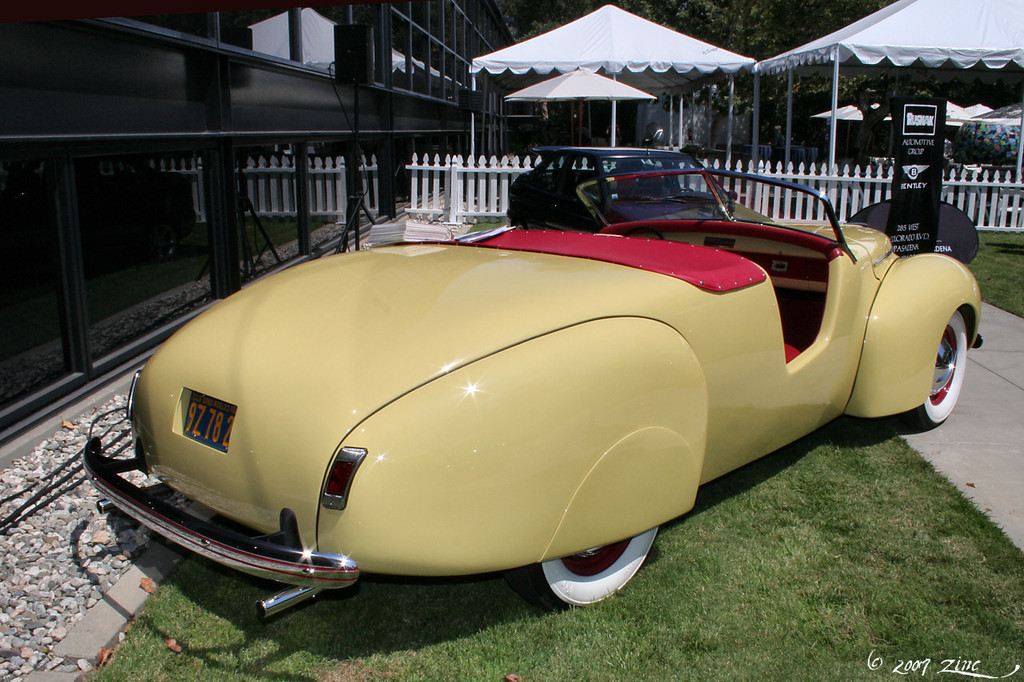mobil: (189, 180, 969, 604)
